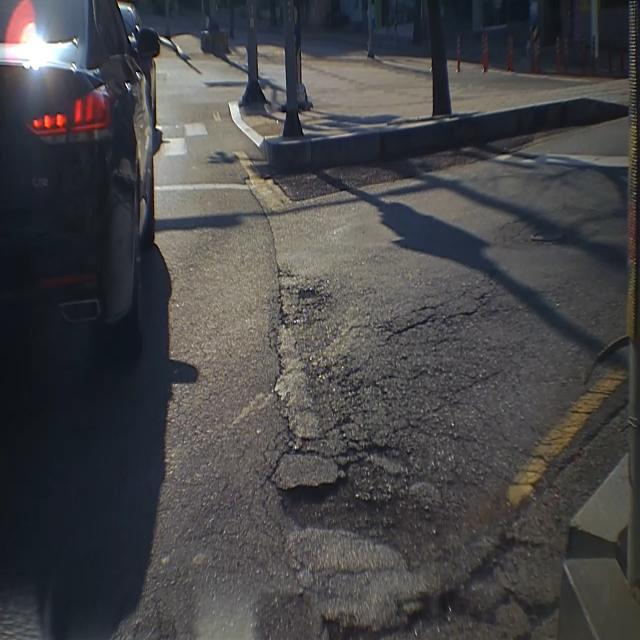Pothole: (284, 462, 468, 572), (321, 581, 500, 640), (293, 276, 326, 310)
